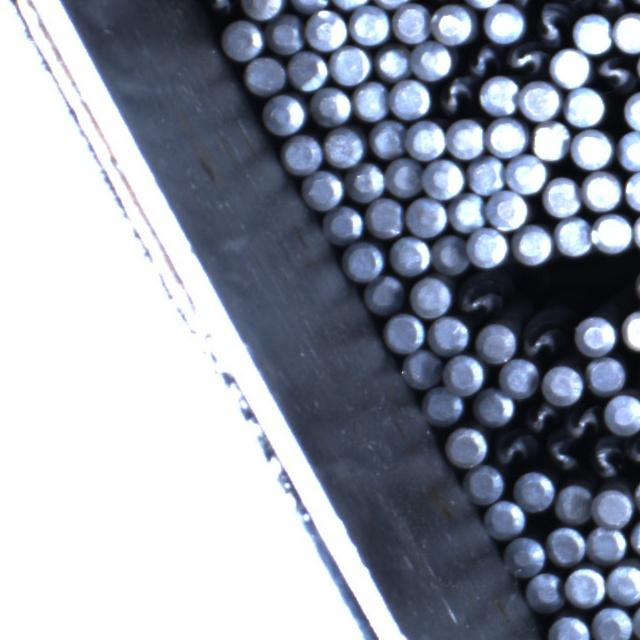tool: (431, 3, 477, 44), (570, 126, 614, 168), (264, 90, 307, 132), (409, 276, 452, 318), (306, 8, 348, 50), (446, 425, 488, 467), (328, 44, 372, 84), (487, 116, 531, 156), (405, 196, 447, 237), (324, 125, 366, 166), (478, 75, 520, 116), (581, 168, 622, 210), (510, 224, 552, 265), (222, 18, 264, 59), (506, 154, 549, 194), (572, 11, 612, 53), (468, 228, 510, 268), (485, 189, 527, 229), (422, 158, 464, 198), (548, 48, 590, 88), (444, 354, 486, 394), (390, 78, 432, 118), (542, 364, 584, 404), (482, 4, 524, 44), (474, 322, 516, 362), (566, 566, 606, 608), (504, 535, 546, 575), (519, 80, 561, 120), (564, 86, 606, 126), (576, 314, 618, 354), (343, 240, 385, 280), (514, 470, 556, 510), (264, 12, 304, 54), (474, 388, 516, 428), (412, 39, 455, 78), (348, 5, 389, 45), (431, 314, 472, 354), (485, 498, 526, 538), (287, 50, 328, 90), (391, 236, 432, 276), (302, 168, 343, 208), (322, 202, 363, 242), (592, 486, 633, 526), (406, 120, 446, 160), (310, 85, 350, 125), (345, 161, 385, 201), (284, 134, 324, 174), (593, 214, 633, 254), (547, 524, 587, 564), (386, 313, 426, 353), (464, 464, 504, 504), (588, 522, 628, 562), (498, 356, 538, 396), (393, 1, 432, 42), (544, 176, 583, 217), (366, 196, 404, 238), (422, 386, 464, 424), (526, 571, 564, 613), (586, 355, 626, 394), (446, 117, 484, 158), (554, 216, 592, 257), (532, 120, 570, 160), (247, 54, 287, 92), (556, 482, 594, 522), (403, 348, 443, 386), (363, 274, 403, 312), (370, 119, 408, 159), (468, 156, 506, 195), (386, 156, 423, 196), (432, 234, 469, 274), (605, 392, 640, 434), (446, 192, 484, 230), (352, 80, 388, 120), (590, 606, 631, 640), (607, 563, 640, 605), (374, 44, 412, 80), (613, 11, 640, 52), (548, 614, 590, 640), (618, 130, 640, 170), (241, 0, 285, 18), (622, 307, 640, 350), (624, 89, 640, 130), (624, 170, 640, 210), (288, 0, 330, 12), (630, 518, 640, 558), (631, 600, 640, 639), (372, 0, 414, 8), (332, 0, 372, 8), (633, 211, 640, 253), (464, 0, 504, 6)
tool_b: (519, 307, 568, 359), (458, 275, 506, 319), (530, 0, 572, 44), (588, 434, 625, 480), (542, 433, 582, 475), (493, 428, 537, 466), (438, 75, 478, 116), (593, 53, 635, 91), (504, 41, 546, 77), (562, 403, 600, 439), (464, 42, 501, 76), (522, 401, 560, 433), (624, 432, 640, 467), (195, 1, 238, 14), (594, 1, 632, 12)
